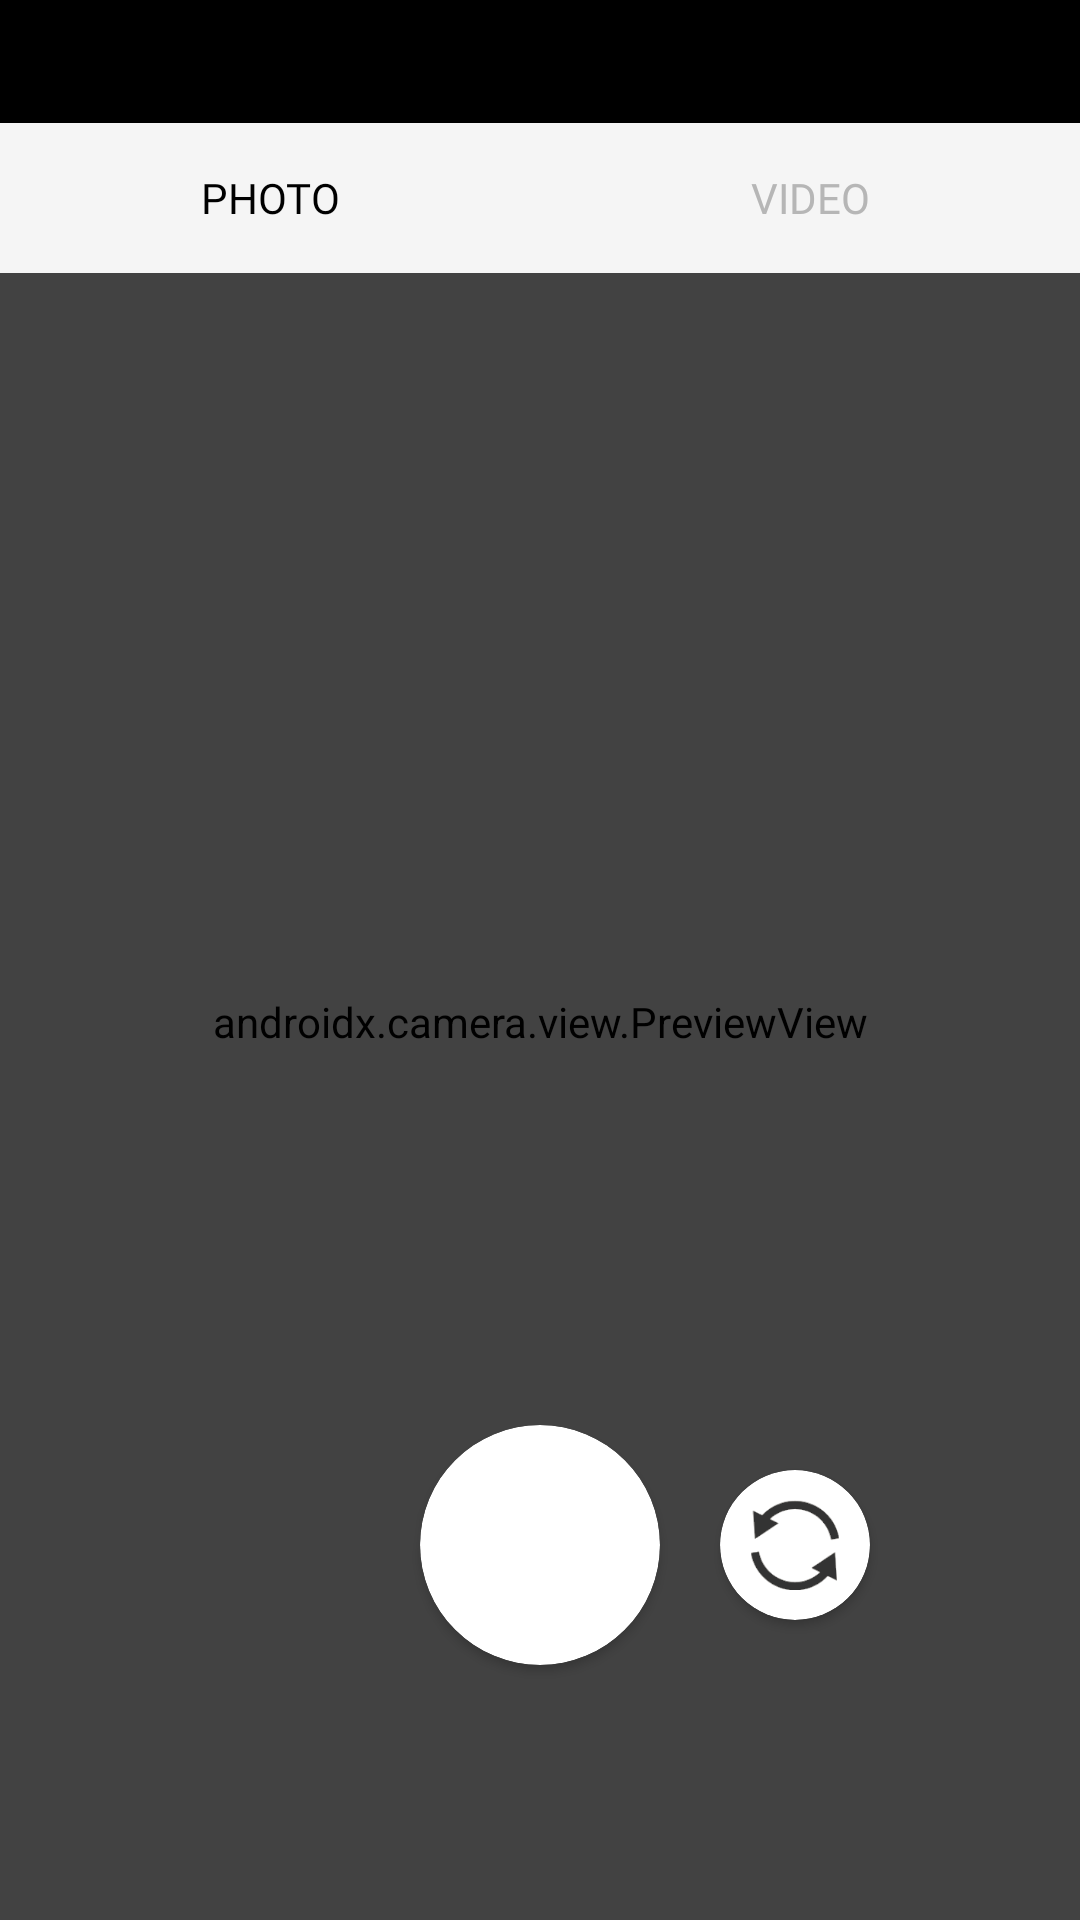

Where to tap for icons on this 1080*1920 app screen, as [x,y]:
rotate: [795,1545]
